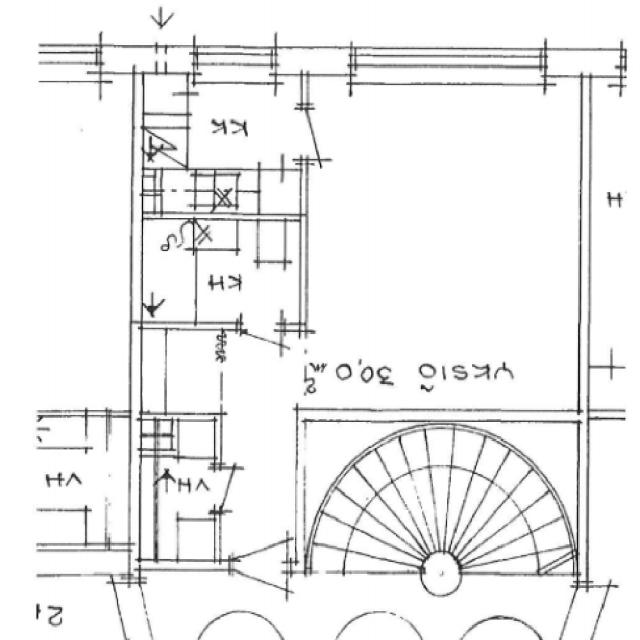door: (232, 499, 287, 571), (232, 561, 287, 632), (300, 110, 353, 160), (240, 321, 282, 375), (213, 468, 260, 511)
